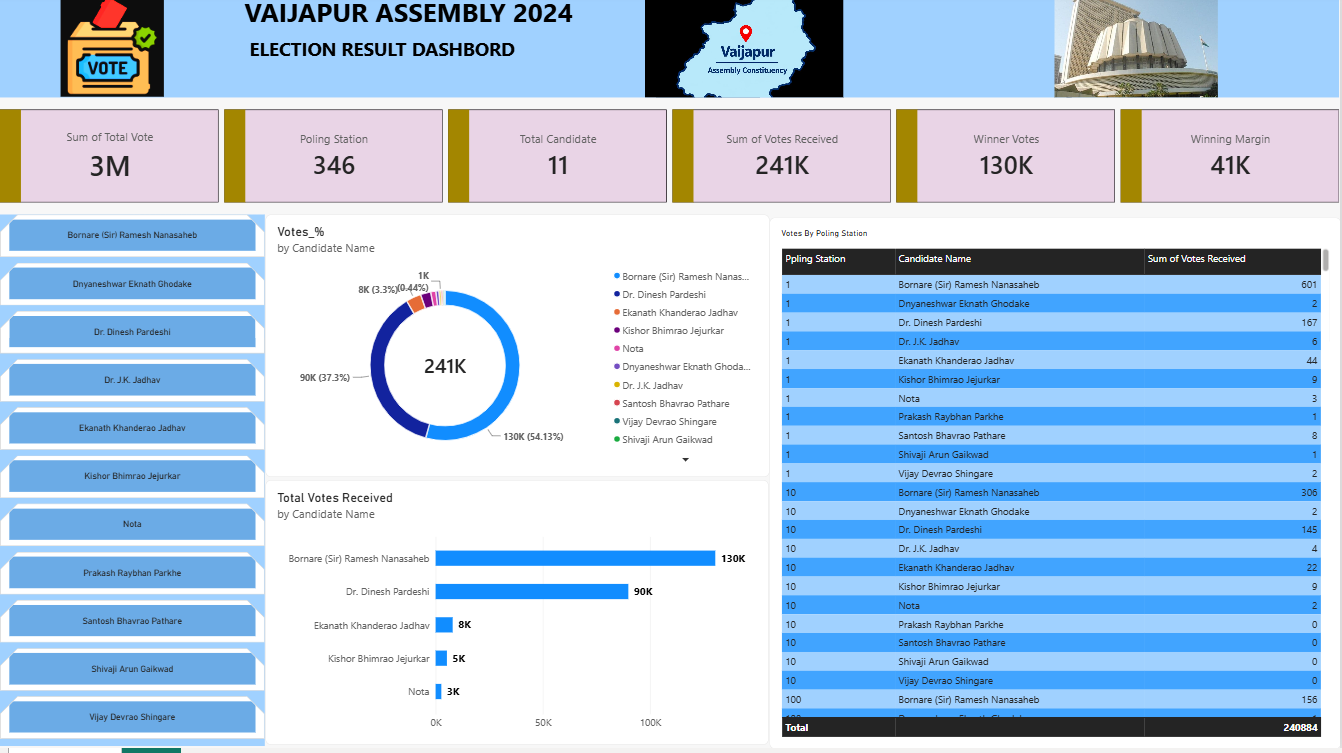

The dashboard page shown, as its layout file describes it:
{"tool":"powerbi","page":{"name":"Page 1","canvas":[1920,1080],"ordinal":0},"visuals":[{"type":"cardVisual","fields":{"Data":["Sum(election_results_112_vaijapur_dashboard_ready.Total Vote)","Count(election_results_112_vaijapur_dashboard_ready.Ppling Station)","election_results_112_vaijapur_dashboard_ready.Total_can","Sum(election_results_112_vaijapur_dashboard_ready.Votes Received)","election_results_112_vaijapur_dashboard_ready.Winner Votes","election_results_112_vaijapur_dashboard_ready.Winning Margin"]},"box":[0,164.6,1918.3,133.6],"z":0},{"type":"clusteredBarChart","fields":{"Category":["election_results_112_vaijapur_dashboard_ready.Candidate Name"],"Y":["Sum(election_results_112_vaijapur_dashboard_ready.Votes Received)"]},"box":[379.4,696.7,720.5,379.4],"z":1000},{"type":"advancedSlicerVisual","fields":{"Values":["election_results_112_vaijapur_dashboard_ready.Candidate Name"]},"box":[0,314.9,379.4,761.1],"z":2000},{"type":"tableEx","title":"Votes By Poling Station","fields":{"Values":["election_results_112_vaijapur_dashboard_ready.Ppling Station","election_results_112_vaijapur_dashboard_ready.Candidate Name","Sum(election_results_112_vaijapur_dashboard_ready.Votes Received)"]},"box":[1102.2,320.1,818.4,761.1],"z":3000},{"type":"image","box":[887.6,0,252.9,147.9],"z":4000},{"type":"shape","box":[0,0,1918.3,147.9],"z":5000},{"type":"textbox","box":[0,0,888.1,131.7],"z":6000},{"type":"image","box":[1510.3,0,233.8,147.9],"z":7000},{"type":"image","box":[923.3,0,283.9,147.9],"z":8000},{"type":"donutChart","fields":{"Category":["election_results_112_vaijapur_dashboard_ready.Candidate Name"],"Y":["Sum(election_results_112_vaijapur_dashboard_ready.Votes Received)"]},"box":[379.4,314.9,721.9,376],"z":9000},{"type":"image","box":[11.4,0,299.8,147.6],"z":10000}]}

Visuals, with their boxes in screenshot pixels (x1, y1, x2, y2), scaled from the page's 1920x1080 canvas onto the 1342x753 screenshot:
cardVisual - Sum(election_results_112_vaijapur_dashboard_ready.Total Vote) x Count(election_results_112_vaijapur_dashboard_ready.Ppling Station): bbox=(0, 115, 1341, 208)
clusteredBarChart - election_results_112_vaijapur_dashboard_ready.Candidate Name x Sum(election_results_112_vaijapur_dashboard_ready.Votes Received): bbox=(265, 486, 769, 750)
advancedSlicerVisual - election_results_112_vaijapur_dashboard_ready.Candidate Name: bbox=(0, 220, 265, 750)
"Votes By Poling Station" tableEx: bbox=(770, 223, 1341, 752)
image: bbox=(620, 0, 797, 103)
shape: bbox=(0, 0, 1341, 103)
textbox: bbox=(0, 0, 621, 92)
image: bbox=(1056, 0, 1219, 103)
image: bbox=(645, 0, 844, 103)
donutChart - election_results_112_vaijapur_dashboard_ready.Candidate Name x Sum(election_results_112_vaijapur_dashboard_ready.Votes Received): bbox=(265, 220, 770, 482)
image: bbox=(8, 0, 218, 103)
